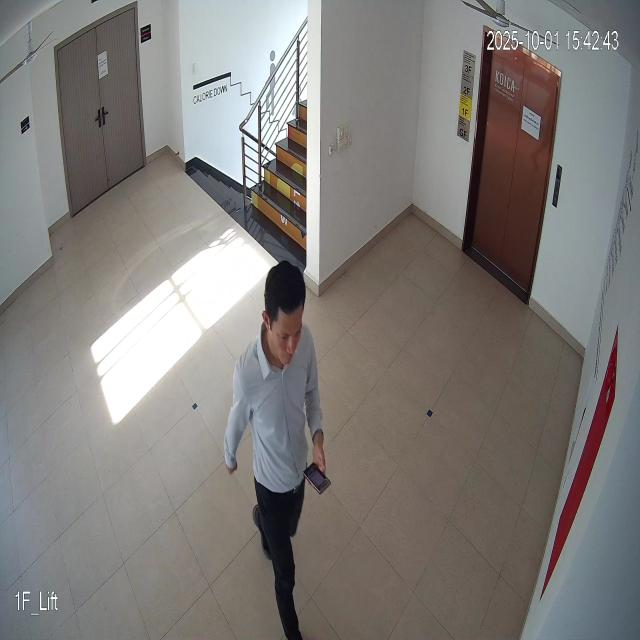face: (255, 250, 308, 376)
